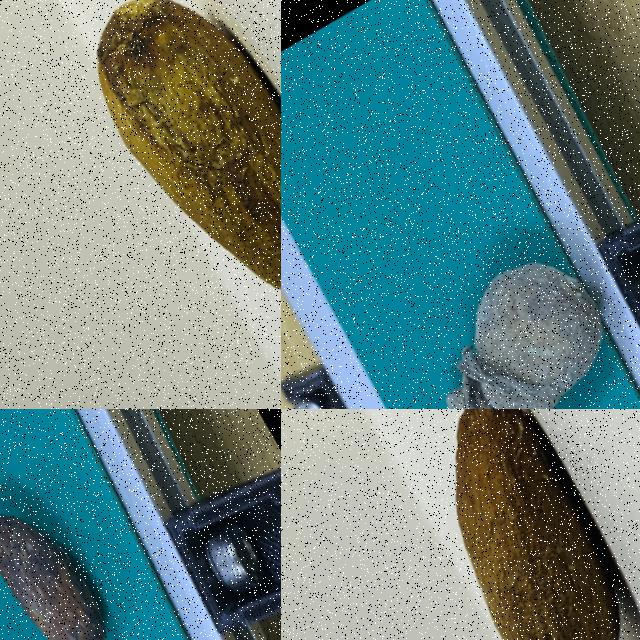Agglomerated_cocoabeans: (304, 124, 639, 408)
Fine_cocoabeans: (33, 0, 280, 408), (310, 409, 639, 639), (0, 409, 190, 639)
